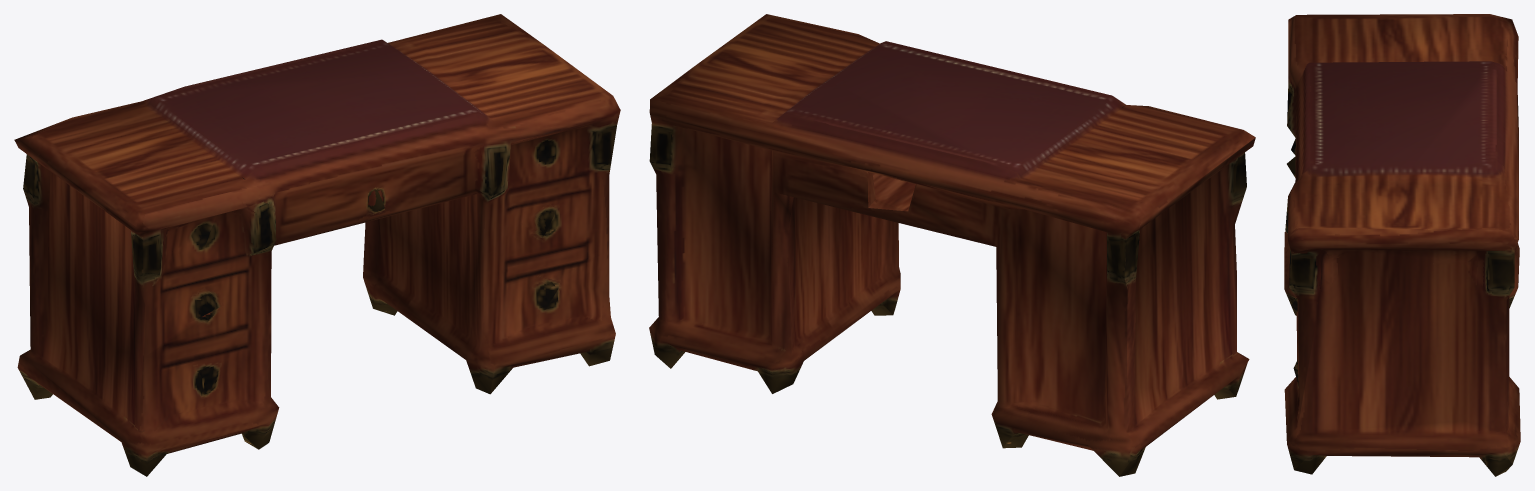
Rendered from mahogany-writing-desk.glb.
The picture shows the model from 3 angles, left to right: view 1: azimuth 30°, elevation 25°; view 2: azimuth 150°, elevation 25°; view 3: azimuth 270°, elevation 25°; orthographic projection. The views are drawn at different scales.
Parts seen in each view (by area): view 1: geometry_0.001; view 2: geometry_0.001; view 3: geometry_0.001.
Part boxes in pixels (<box>): geometry_0.001: <box>14,14,620,476</box>; geometry_0.001: <box>649,14,1255,476</box>; geometry_0.001: <box>1284,14,1520,476</box>.
Size of the model in its own units: 0.9993 by 0.5403 by 0.4477.
Materials: 1 (1 with a texture image).
